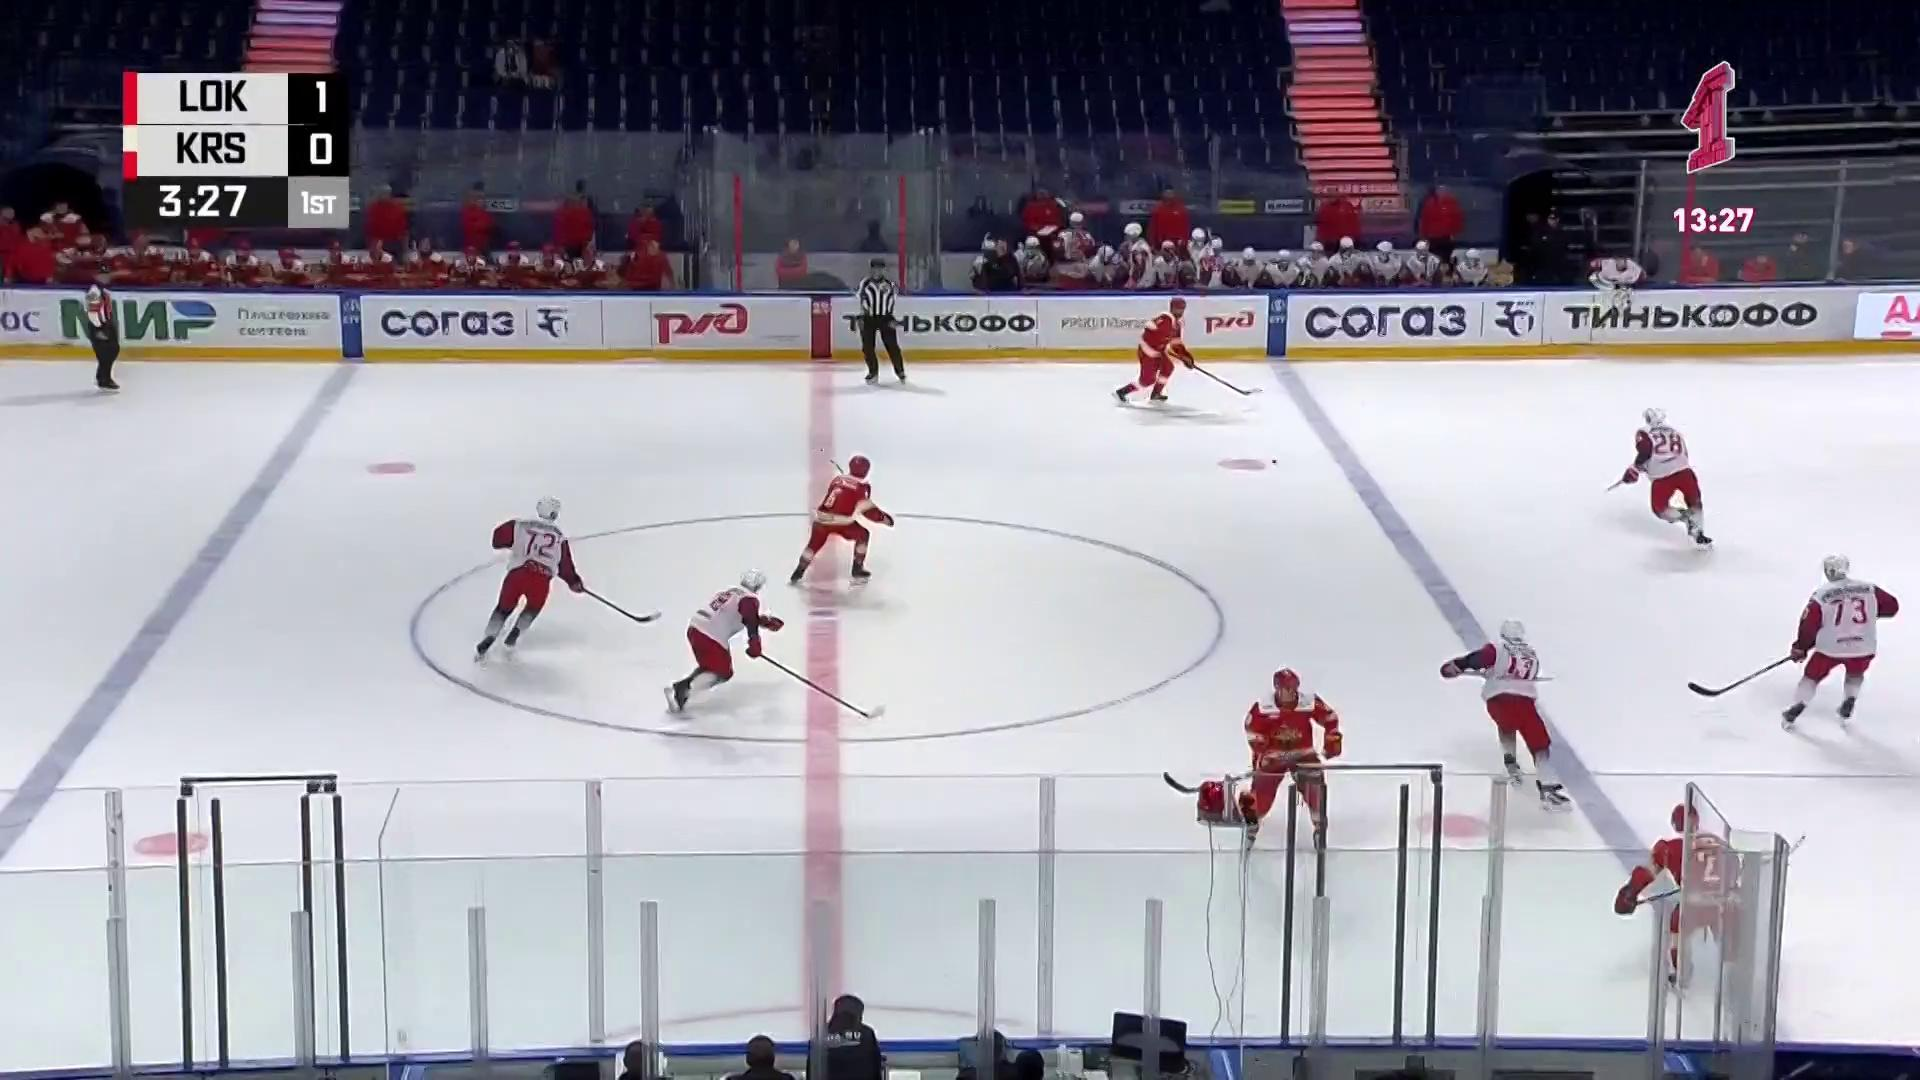ball: (1273, 459, 1278, 464)
